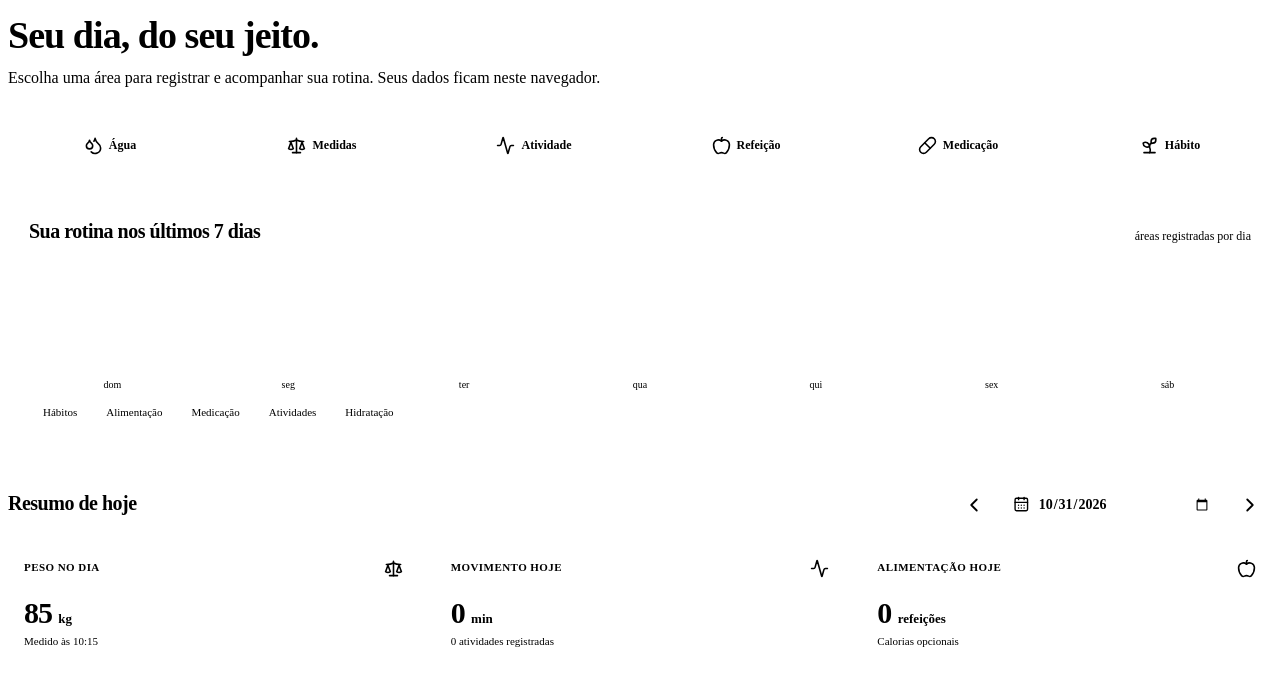
resumo da página inicial por data › mostra um dia vazio sem carregar valores de outras datas
The width and height of the screenshot is (1280, 699).
Click the button named "Dia anterior".
click(974, 504)  # box [952,480,996,528]
(page scrolled)
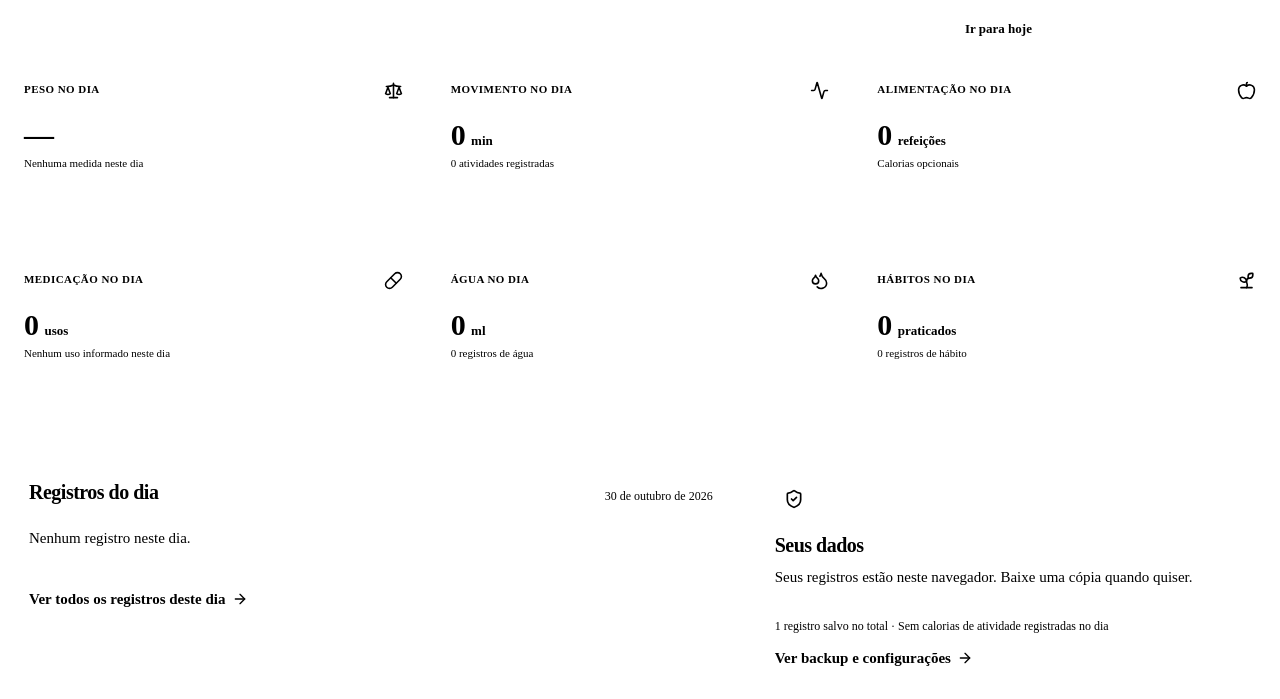
Expected: the link "Peso no dia — Nenhuma medida neste dia" is shown, [24,80,403,168]
Expected: the text "Nenhum registro neste dia." is shown, [29,530,191,546]
